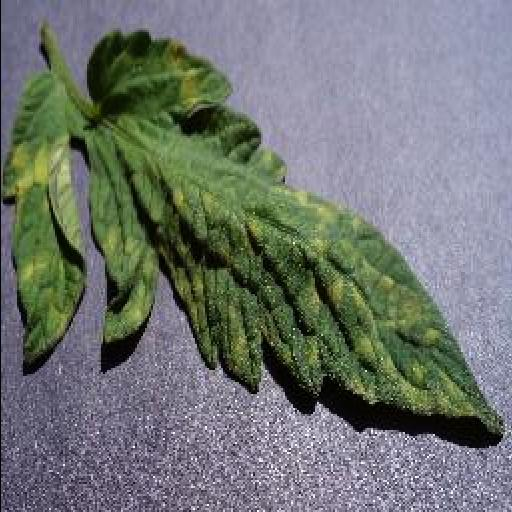disease_tomato: (88, 30, 502, 430), (0, 78, 86, 366)
